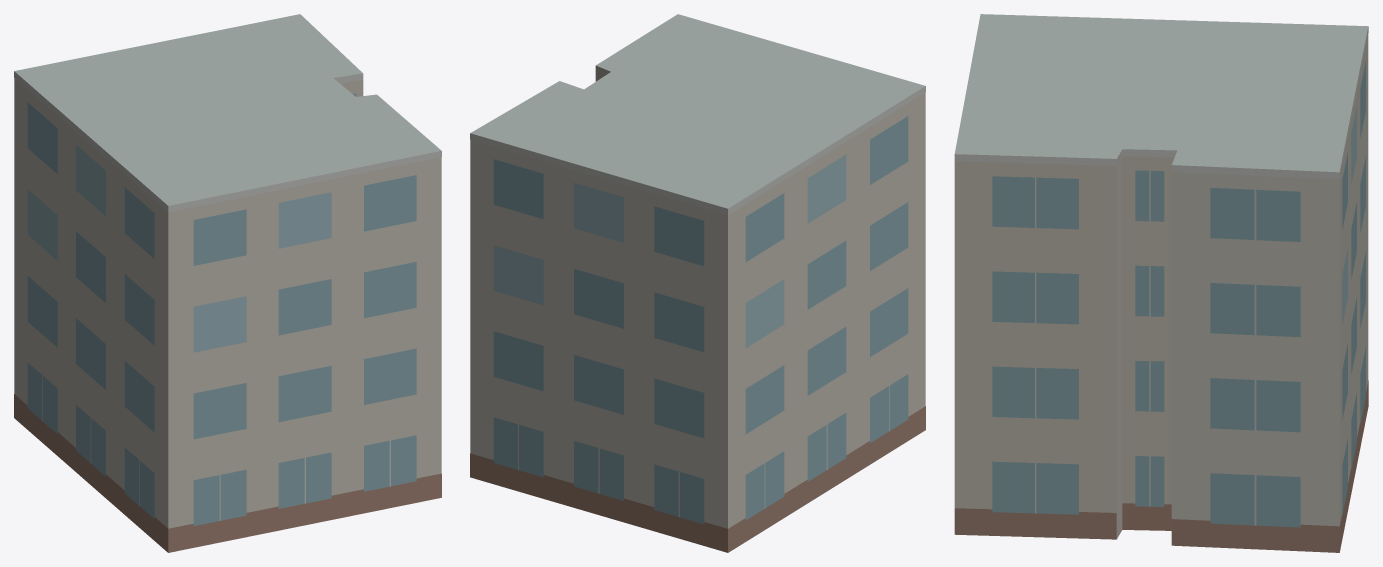
File: survey-upis-32819314.glb
The picture shows the model from 3 angles, left to right: view 1: azimuth 30°, elevation 25°; view 2: azimuth 150°, elevation 25°; view 3: azimuth 270°, elevation 25°; orthographic projection. The views are drawn at different scales.
Visible parts, largest first — view 1: survey-upis-32819314.tmp; view 2: survey-upis-32819314.tmp; view 3: survey-upis-32819314.tmp.
Part boxes in pixels (left/top/right/bottom): survey-upis-32819314.tmp: left=14, top=14, right=441, bottom=552; survey-upis-32819314.tmp: left=470, top=14, right=925, bottom=552; survey-upis-32819314.tmp: left=954, top=14, right=1368, bottom=552.
Bounding box in the file's own units: 11.77 × 13.19 × 13.
